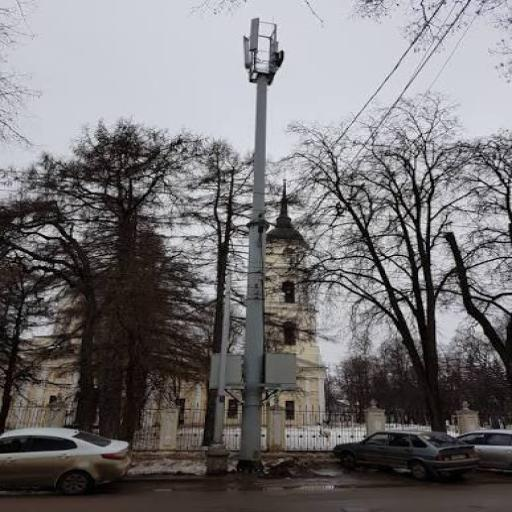odn_pole: (208, 18, 298, 474)
